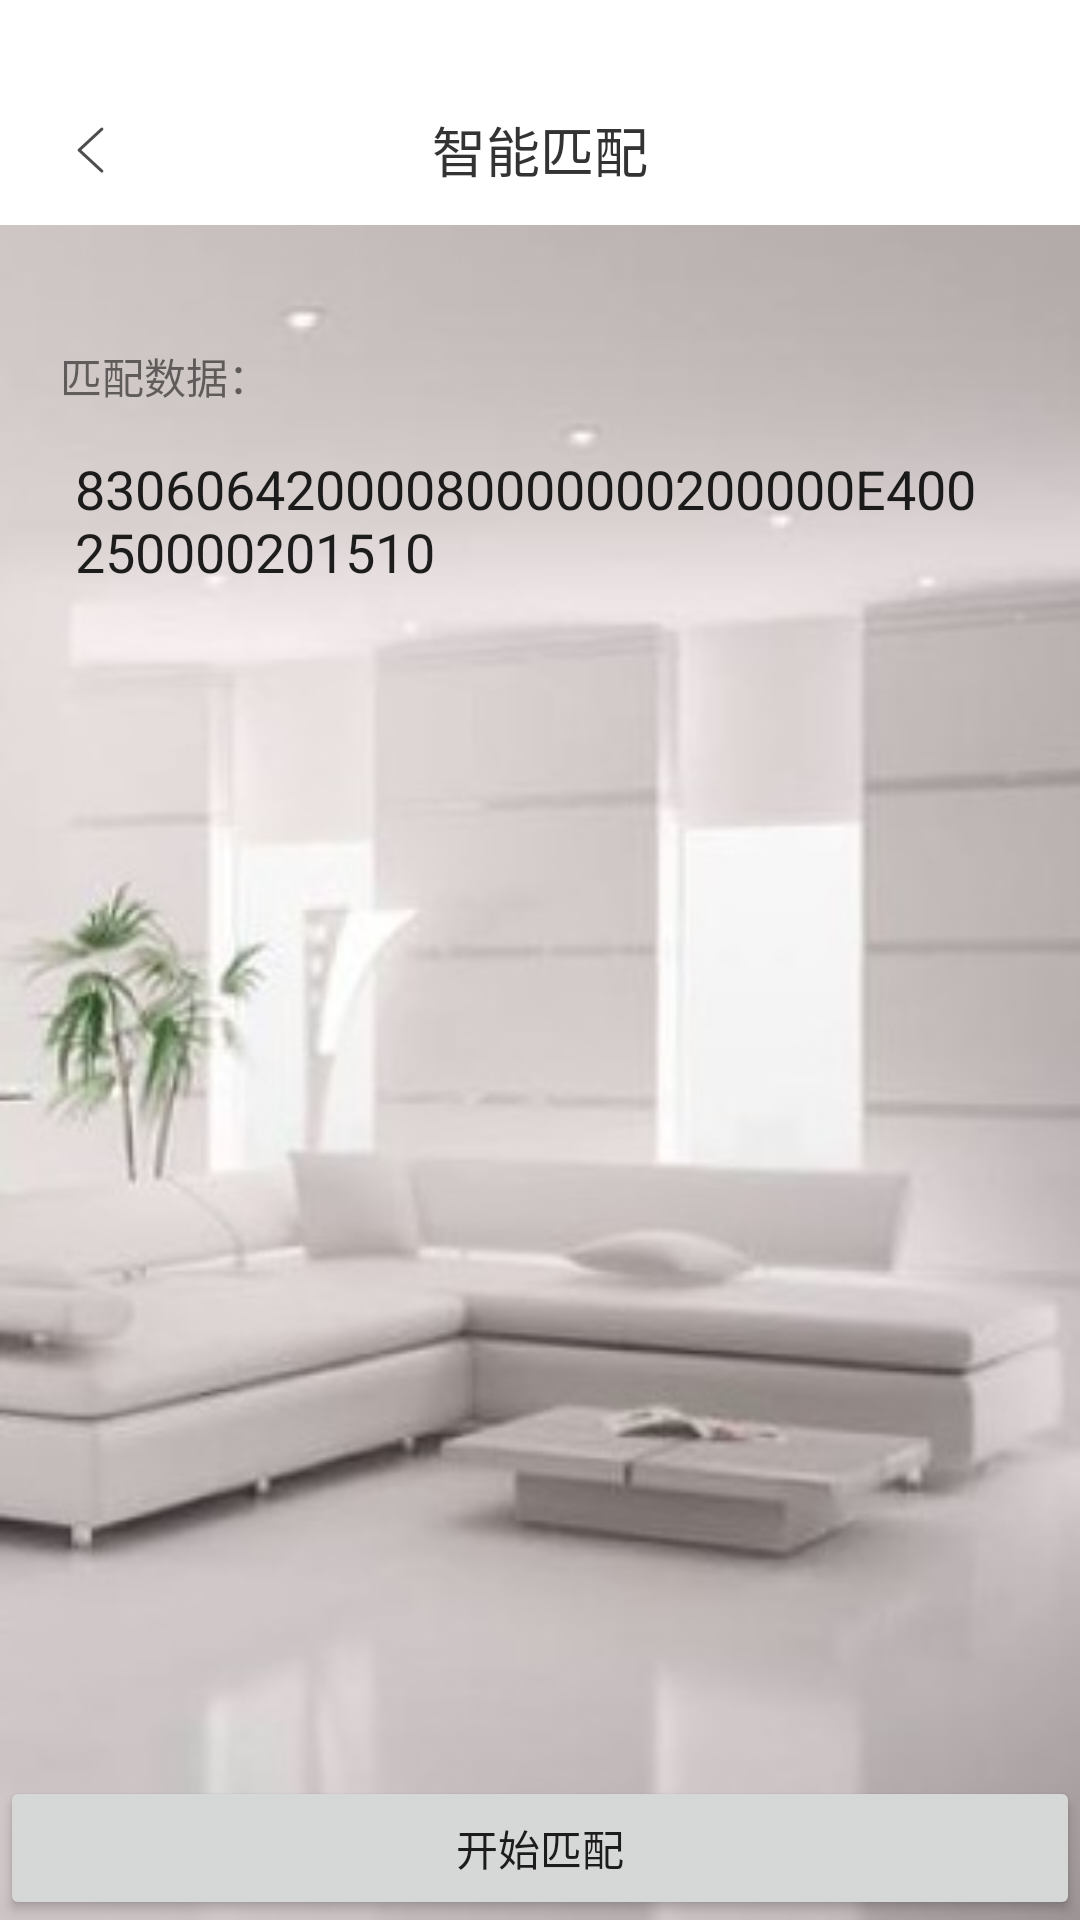

Icons on this 1080w x 1920h Android screen, each with the point to tap as [x,y]:
back: [90,150]
